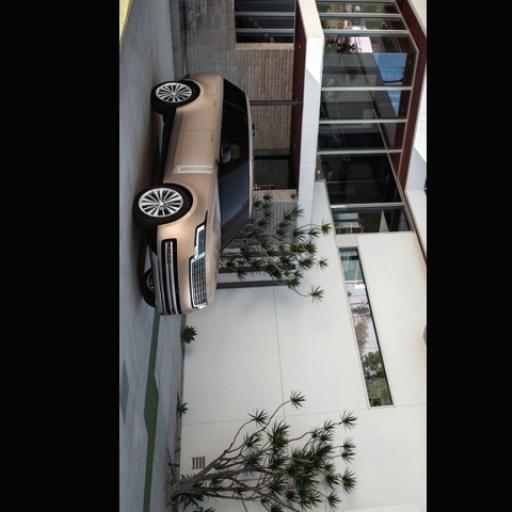suv: (132, 74, 252, 313)
